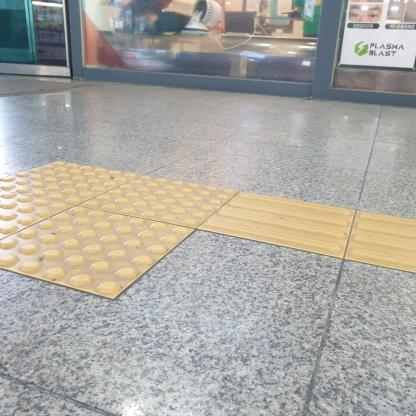go: (196, 190, 357, 259)
stop: (0, 205, 197, 299), (75, 175, 240, 229), (0, 161, 142, 206), (0, 189, 76, 239)
